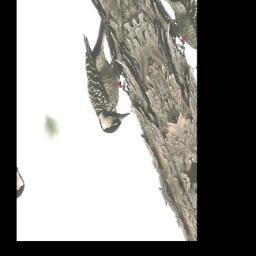Woodpecker: (66, 17, 143, 138)
